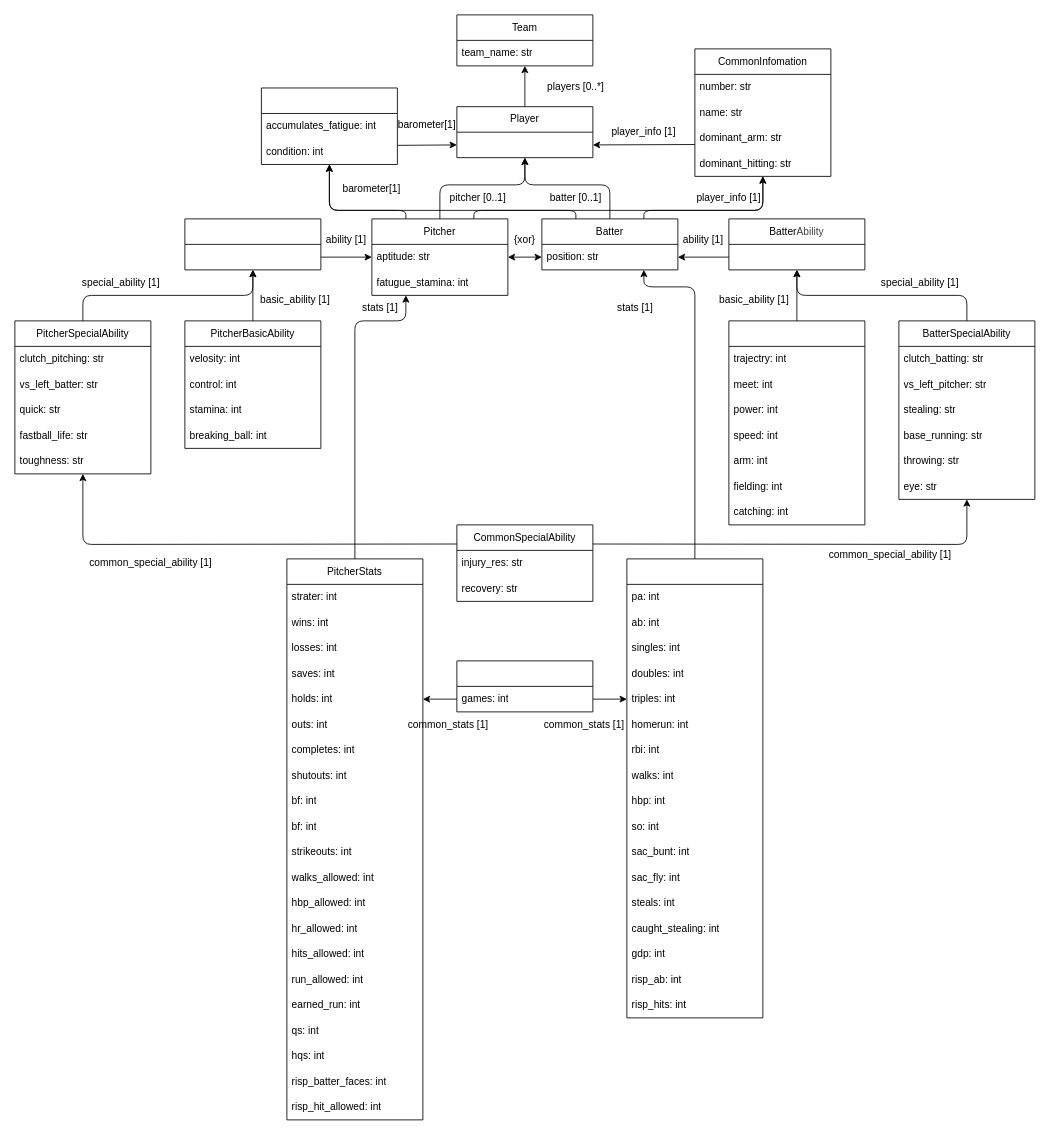
This 1050x1135 diagram has some shape labels left out. Here are the shapes that lost their labels. From the top down, the box of each, then its label:
(261, 87, 397, 164): Barometer
(184, 218, 321, 270): Pitcher Ability
(728, 320, 865, 525): Batter Basic Ability
(456, 660, 593, 712): CommonStats
(626, 558, 763, 1018): BatterStats
